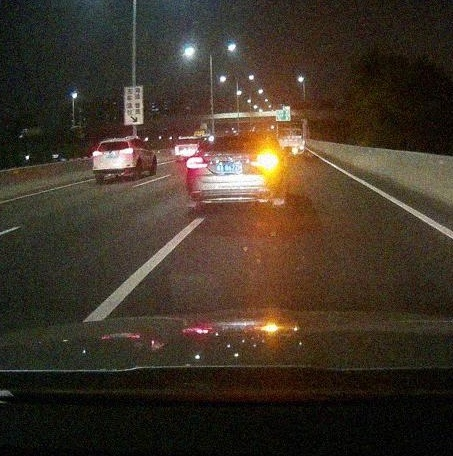L_light: (186, 156, 208, 169), (93, 150, 103, 157)
R_light: (256, 155, 278, 167), (121, 147, 134, 154)
T_light: (227, 135, 243, 139), (110, 141, 118, 144)
night-no: (92, 137, 135, 181)
night-right: (186, 133, 282, 212)
